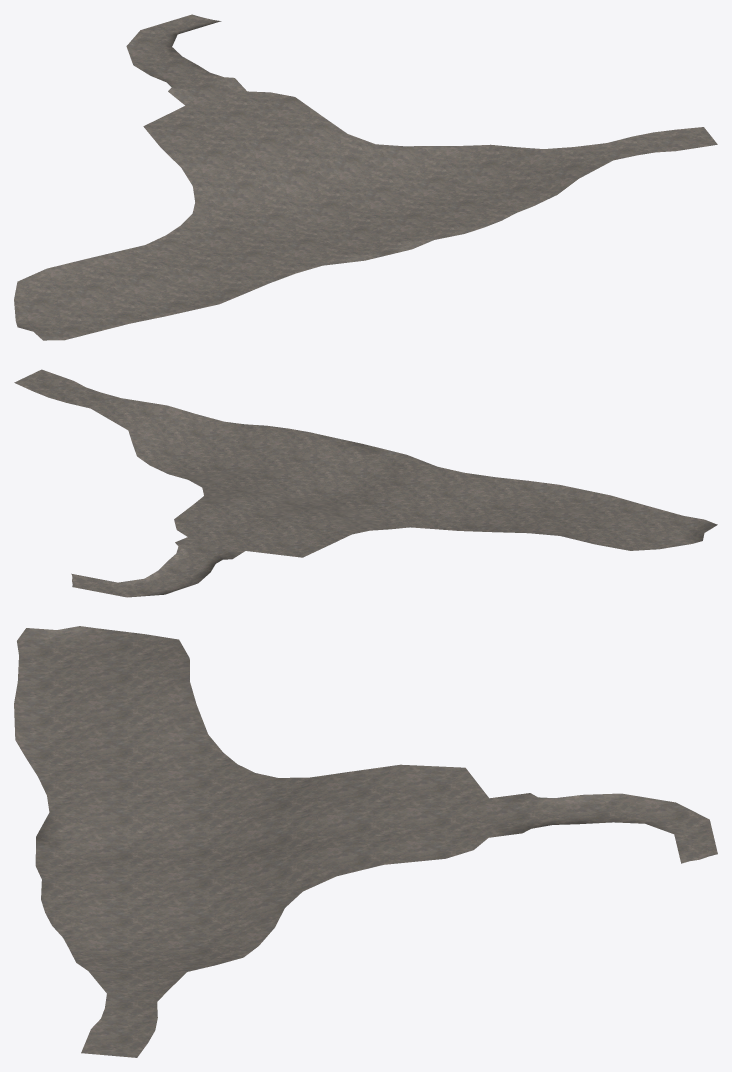
The model's file is EKH_ENTRANCE_PS_EN_OBJECT108.obj.
3 renders of one model, top to bottom at view 1: azimuth 30°, elevation 25°; view 2: azimuth 150°, elevation 25°; view 3: azimuth 270°, elevation 25°, orthographic. The views are drawn at different scales.
Parts seen in each view (by area): view 1: EN_Object108; view 2: EN_Object108; view 3: EN_Object108.
Part boxes in pixels (x1,y1,x2,y2): EN_Object108: (14,14,717,340); EN_Object108: (14,369,717,597); EN_Object108: (14,626,717,1057).
Bounding box in the file's own units: 5983 × 267 × 3986.
